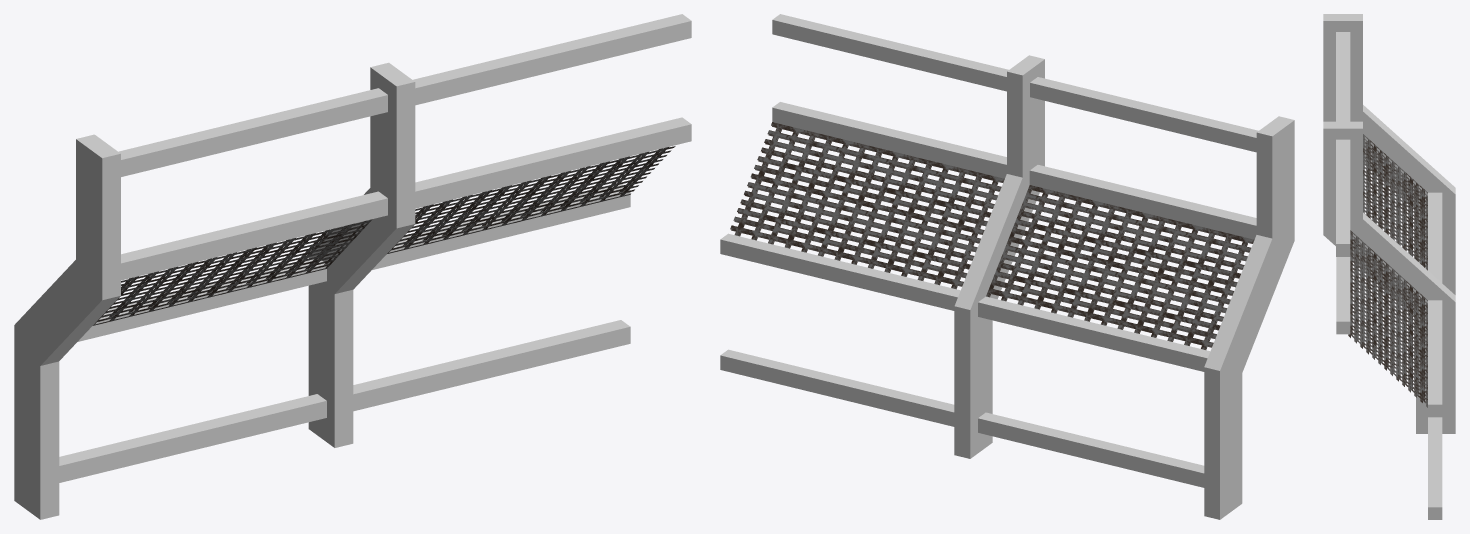
File: fence_2m_01.fbx
The picture shows the model from 3 angles, left to right: view 1: azimuth 30°, elevation 25°; view 2: azimuth 150°, elevation 25°; view 3: azimuth 270°, elevation 25°; orthographic projection. The views are drawn at different scales.
Visible parts, largest first — view 1: Cube.083, Cube.097, Cube.081, Cube.044, Cube.078, Cube.096, Cube.080, Cube.095; view 2: Cube.095, Cube.083, Cube.097, Cube.096, Cube.080, Cube.044, Cube.081, Cube.078; view 3: Cube.097, Cube.095, Cube.083, Cube.096, Cube.044, Cube.080, Cube.081, Cube.078.
Boxes of the visible parts, x1,y1,x2,y2 form: Cube.083: (14, 134, 120, 519); Cube.097: (308, 62, 415, 447); Cube.081: (59, 320, 630, 482); Cube.044: (118, 14, 691, 176); Cube.078: (121, 117, 691, 280); Cube.096: (93, 146, 675, 325); Cube.080: (78, 184, 630, 341); Cube.095: (105, 148, 663, 317); Cube.095: (730, 122, 1254, 349); Cube.083: (1204, 116, 1294, 519); Cube.097: (954, 55, 1044, 458); Cube.096: (731, 126, 1252, 349); Cube.080: (720, 233, 1210, 371); Cube.044: (772, 14, 1258, 152); Cube.081: (720, 349, 1204, 487); Cube.078: (772, 102, 1256, 239); Cube.097: (1323, 121, 1455, 433); Cube.095: (1350, 134, 1427, 401); Cube.083: (1323, 14, 1455, 294); Cube.096: (1348, 139, 1427, 407); Cube.044: (1336, 32, 1350, 256); Cube.080: (1428, 192, 1442, 417); Cube.081: (1428, 417, 1442, 519); Cube.078: (1336, 257, 1350, 334).
Size of the model in its own units: 2032 by 1321 by 518.
